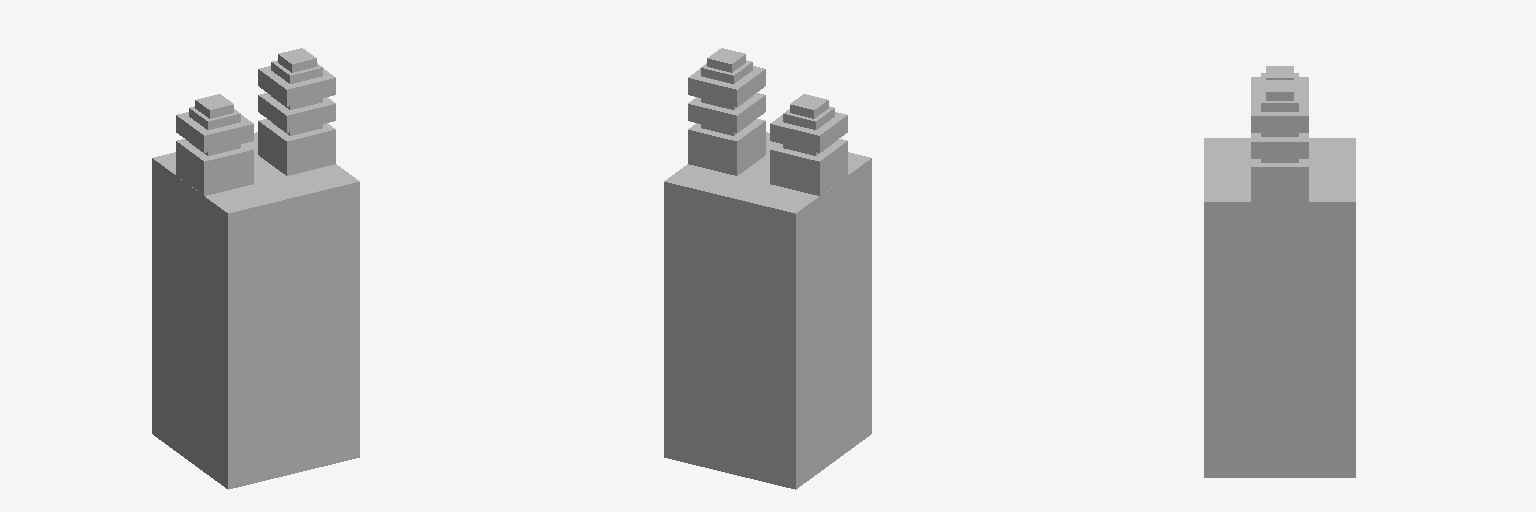
File: transformer_hv_left.obj
The picture shows the model from 3 angles: view 1: azimuth 30°, elevation 25°; view 2: azimuth 150°, elevation 25°; view 3: azimuth 270°, elevation 25°; orthographic projection.
Visible parts, largest first — view 1: block; view 2: block; view 3: block.
Part boxes in pixels (x1,y1,x2,y2): block: (152,48,359,489); block: (664,48,871,489); block: (1204,66,1355,477).
Bounding box in the file's own units: 1 × 2.75 × 1.